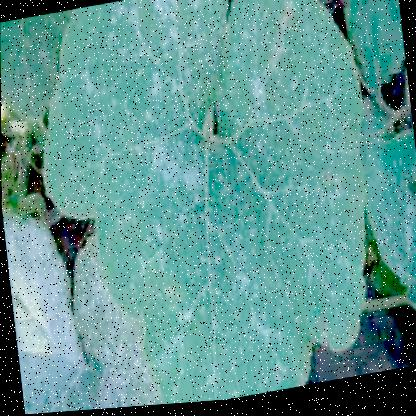PowderyMildew: (141, 155, 329, 396), (225, 9, 352, 293), (60, 0, 218, 221)
